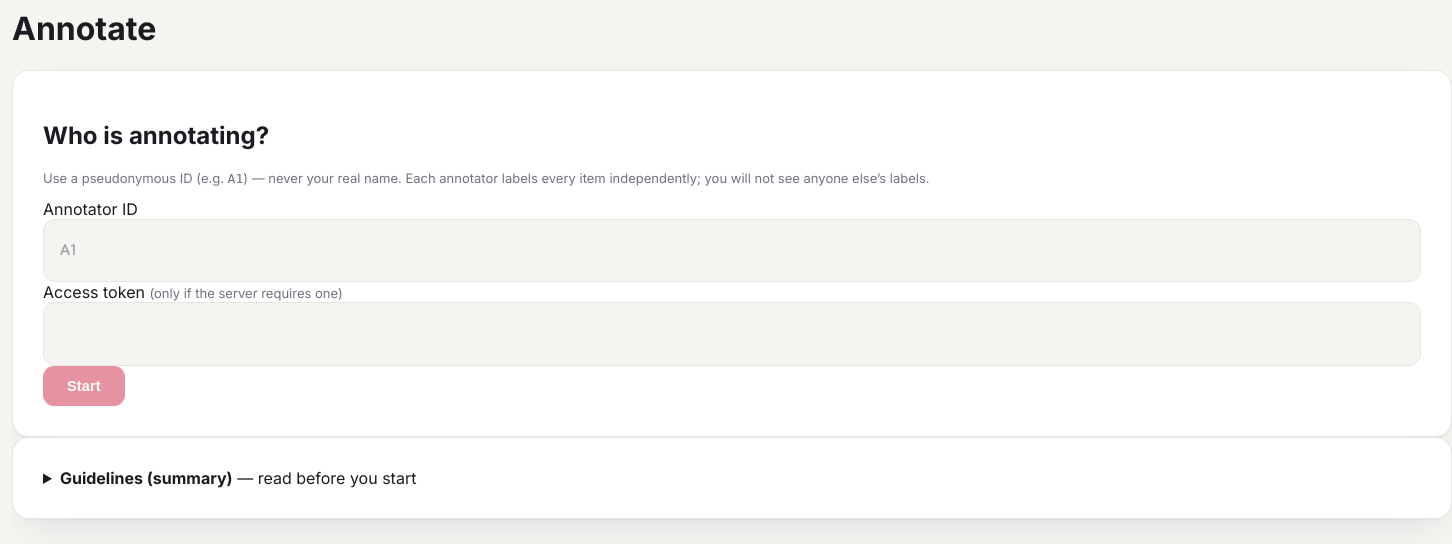
Scenario: Annotate › asks for a pseudonymous ID and rejects names with spaces
In the field with placeholder "A1": (732, 251) [43, 219, 1421, 282], type "Ram Bahadur"
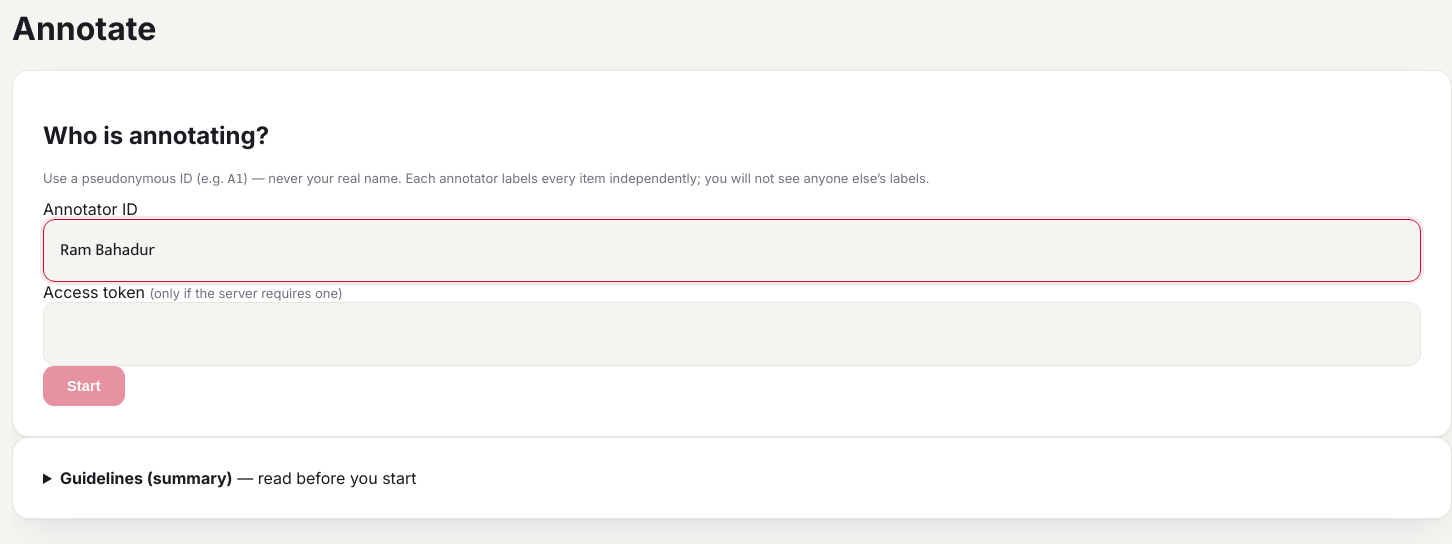
Expected: the button "Start" is disabled, [43, 366, 125, 406]
Replace the text in the field with placeholder "A1" with "S1 ": (732, 251) [43, 219, 1421, 282]
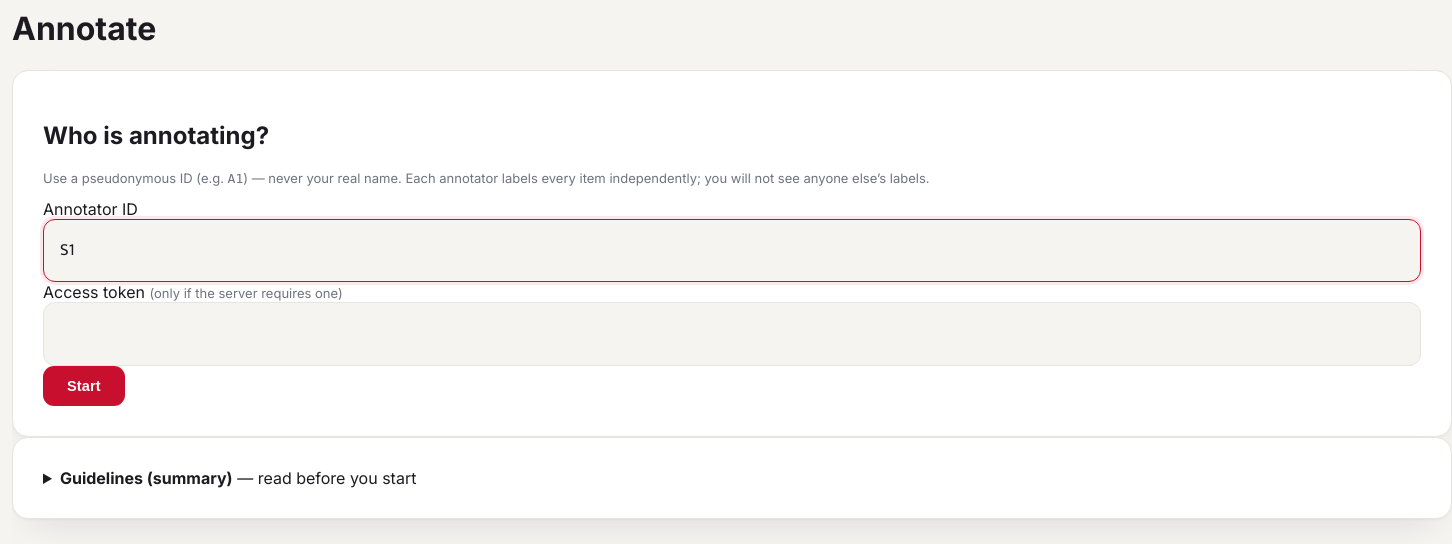
Now the button "Start" is enabled, box [43, 366, 125, 406]
